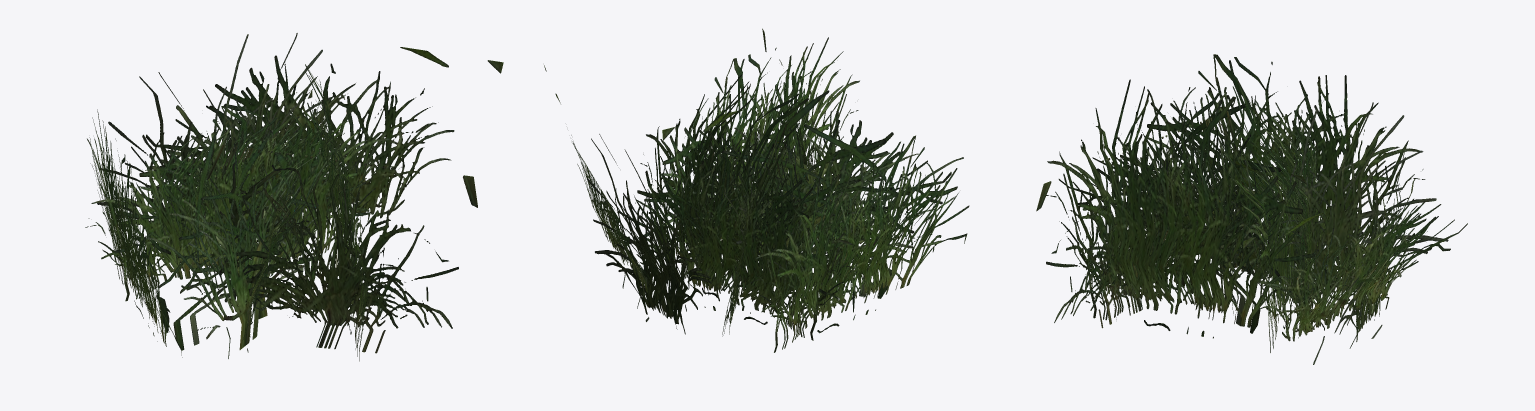
Rendered from forest_grass_001_b_LOD1.gltf.
3 renders of one model, left to right at view 1: azimuth 30°, elevation 25°; view 2: azimuth 150°, elevation 25°; view 3: azimuth 270°, elevation 25°, orthographic. The views are drawn at different scales.
Parts seen in each view (by area): view 1: forest_grass_001_b_LOD1; view 2: forest_grass_001_b_LOD1; view 3: forest_grass_001_b_LOD1.
Boxes of the visible parts, x1,y1,x2,y2 form: forest_grass_001_b_LOD1: (85,33,503,361); forest_grass_001_b_LOD1: (544,28,969,352); forest_grass_001_b_LOD1: (1036,54,1467,364).
Bounding box in the file's own units: 1.43 × 0.7546 × 1.47.
1 material, 1 textured.
